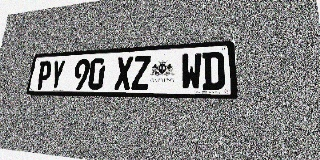0: (87, 58, 106, 90)
9: (72, 59, 91, 90)
D: (202, 51, 225, 90)
P: (35, 61, 53, 90)
W: (181, 53, 202, 90)
X: (114, 56, 133, 90)
Y: (48, 60, 66, 90)
Z: (131, 55, 151, 90)
